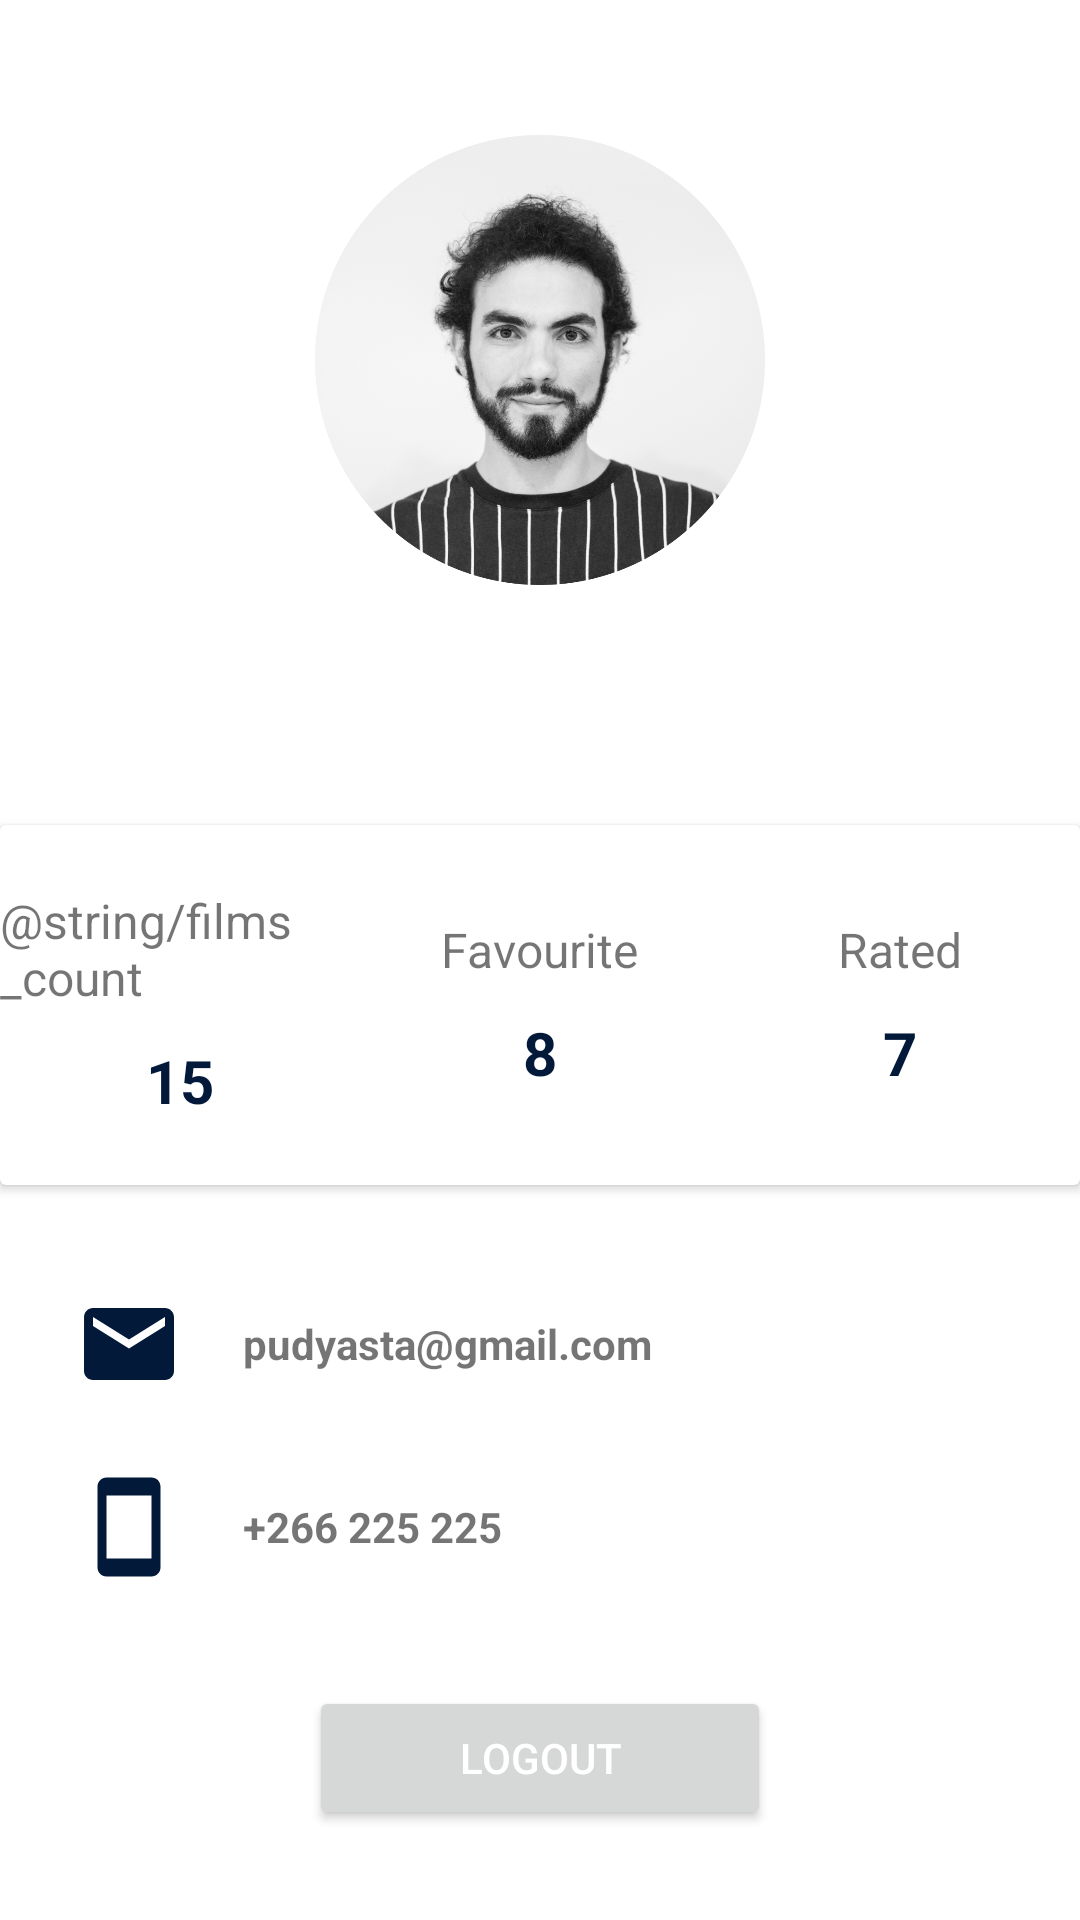

Where icons sit on this 1080×1920 app screen, as (x1, y1, x2, y2):
email: (84, 1308, 174, 1380)
smartphone: (97, 1477, 161, 1577)
